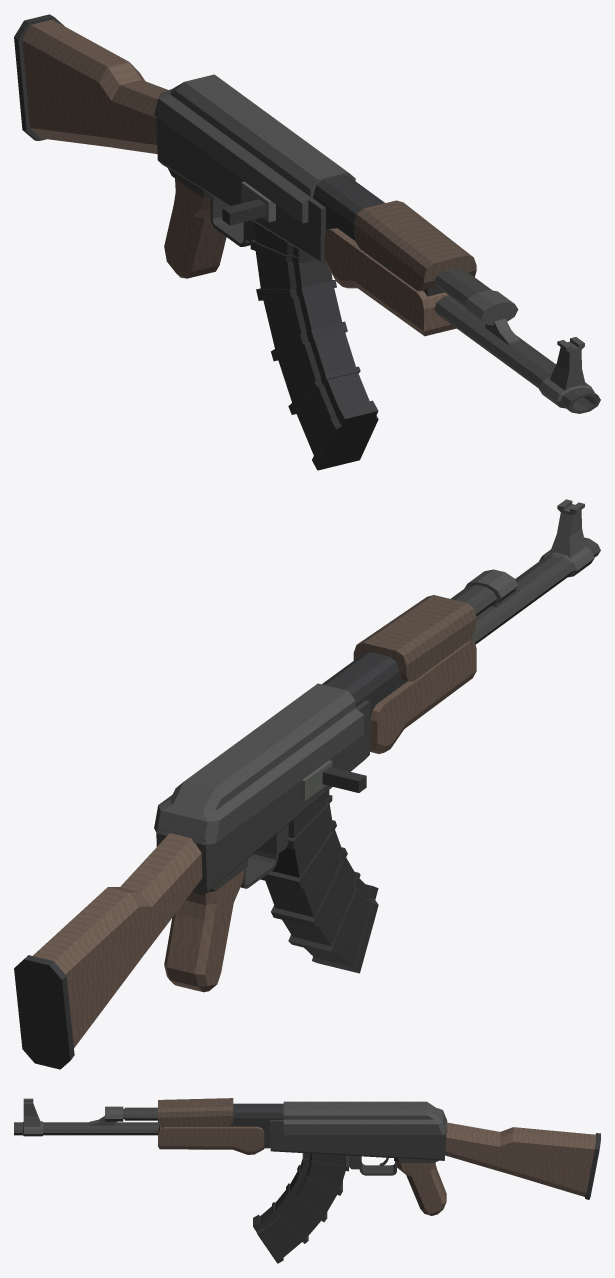
File: military.glb
The picture shows the model from 3 angles, top to bottom: view 1: azimuth 30°, elevation 25°; view 2: azimuth 150°, elevation 25°; view 3: azimuth 270°, elevation 25°; orthographic projection. The views are drawn at different scales.
Parts seen in each view (by area): view 1: part_body, part_magazine, part_bolt; view 2: part_body, part_magazine, part_bolt; view 3: part_body, part_magazine.
Boxes of the visible parts, bbox=[...] form: part_body: bbox=[14, 14, 600, 413]; part_magazine: bbox=[250, 222, 378, 470]; part_bolt: bbox=[222, 181, 275, 225]; part_body: bbox=[14, 499, 600, 1069]; part_magazine: bbox=[260, 790, 378, 973]; part_bolt: bbox=[298, 760, 366, 800]; part_body: bbox=[14, 1098, 600, 1215]; part_magazine: bbox=[253, 1153, 348, 1263].
Bounding box in the file's own units: 0.1377 × 0.389 × 1.32.
Materials: 6 (6 with a texture image).
